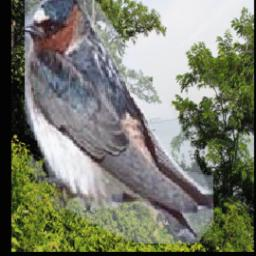Swallow: (26, 0, 214, 245)
